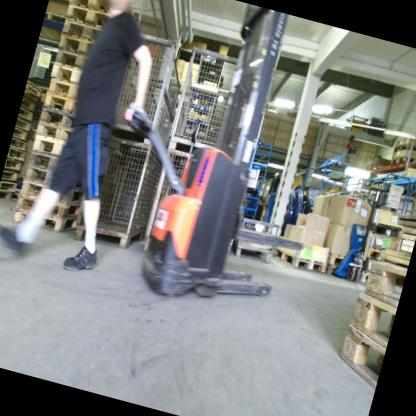pallet: (334, 326, 388, 391), (349, 292, 398, 348), (11, 202, 76, 237), (14, 189, 79, 223), (269, 245, 329, 277), (366, 259, 406, 300), (59, 17, 103, 44), (55, 30, 97, 58), (30, 133, 69, 158), (34, 119, 76, 142), (38, 107, 79, 130), (63, 7, 103, 27), (42, 91, 79, 112), (324, 246, 356, 269), (29, 150, 59, 173), (49, 60, 81, 81), (25, 164, 54, 186), (54, 47, 84, 67), (388, 152, 416, 173), (49, 77, 78, 97), (390, 139, 416, 157), (22, 179, 49, 196), (323, 265, 350, 281), (69, 0, 104, 11), (9, 137, 29, 152), (4, 157, 23, 172), (2, 168, 20, 183), (15, 117, 33, 132), (17, 107, 35, 122), (7, 148, 26, 162), (0, 179, 18, 193), (21, 97, 36, 111), (12, 130, 29, 141), (0, 189, 13, 203)
pallet_truck: (84, 0, 343, 326), (331, 180, 391, 287)
stillage: (164, 45, 269, 170), (70, 131, 166, 255), (102, 26, 195, 149), (136, 147, 190, 257)
